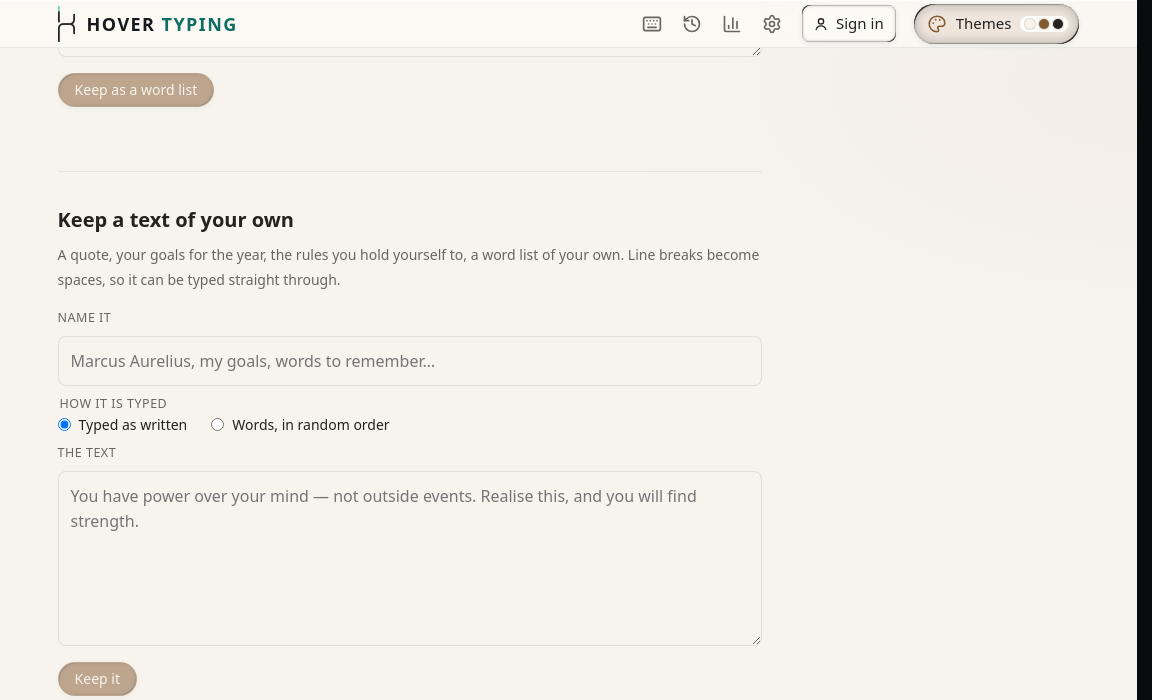
Test case: keeping a text of your own › says so when there is nothing in it to type, and keeps nothing
(page scrolled)
Type "Too short" into the field labelled "Name it".
click(410, 361); type("Too short")  # box [58,336,762,386]
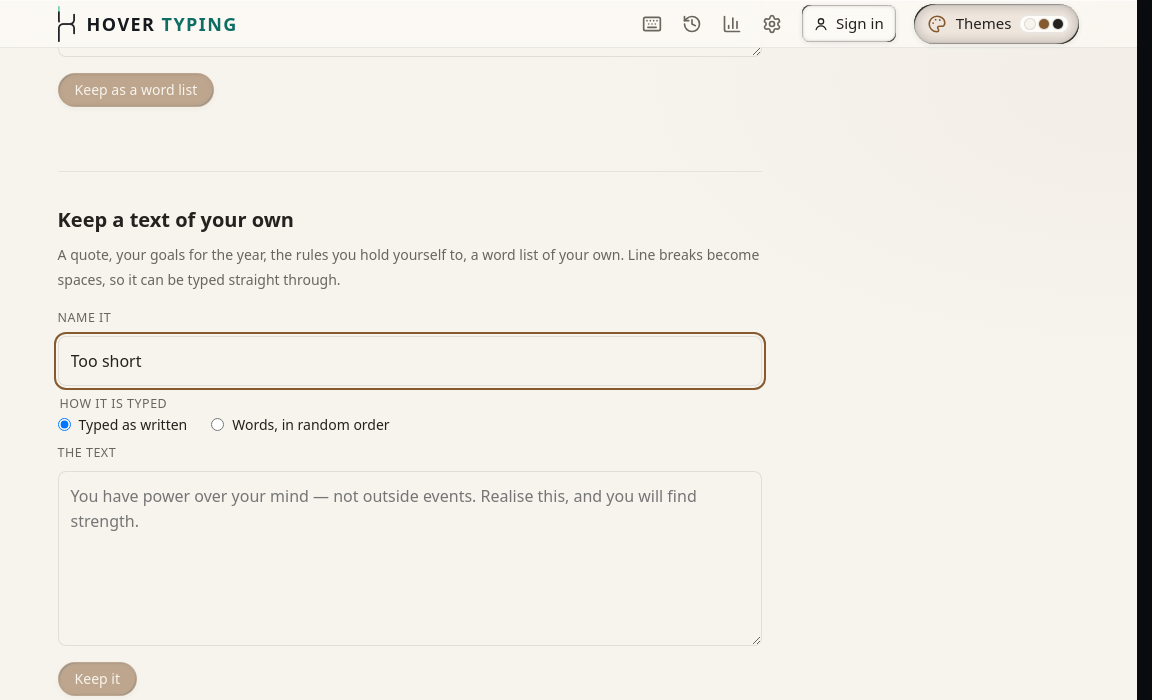
Type "hi" into the text box labelled "The text".
click(410, 558); type("hi")  # box [58,471,762,646]
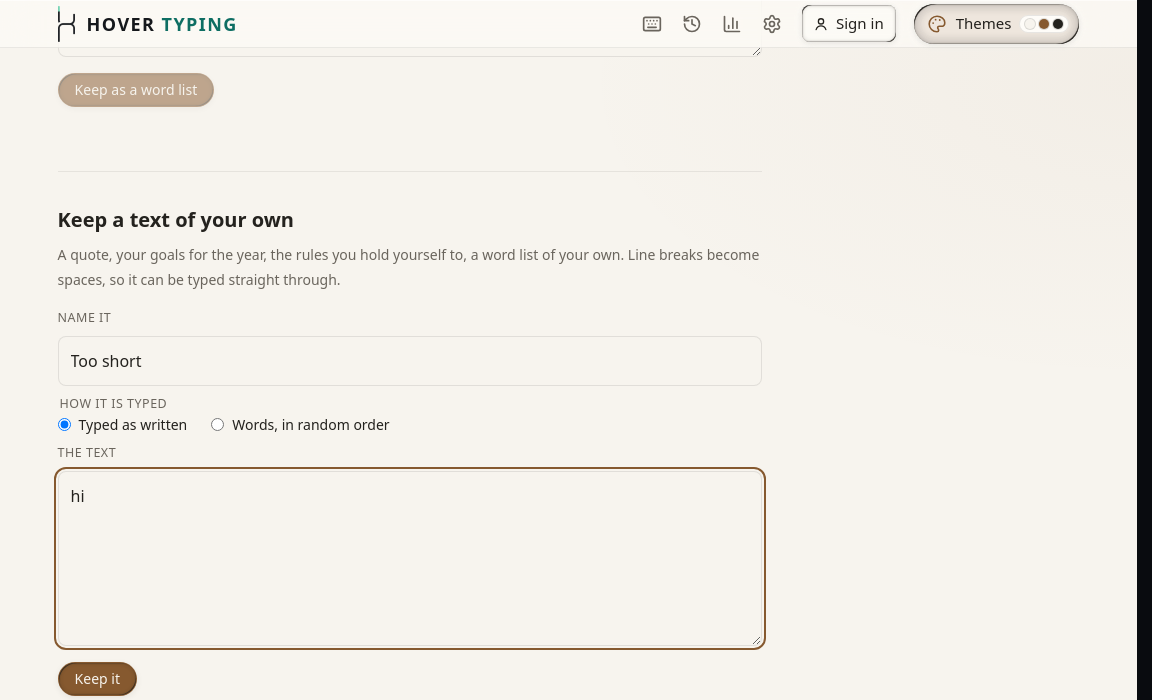
Click the button "Keep it".
click(97, 679)  # box [58,662,137,696]
(page scrolled)
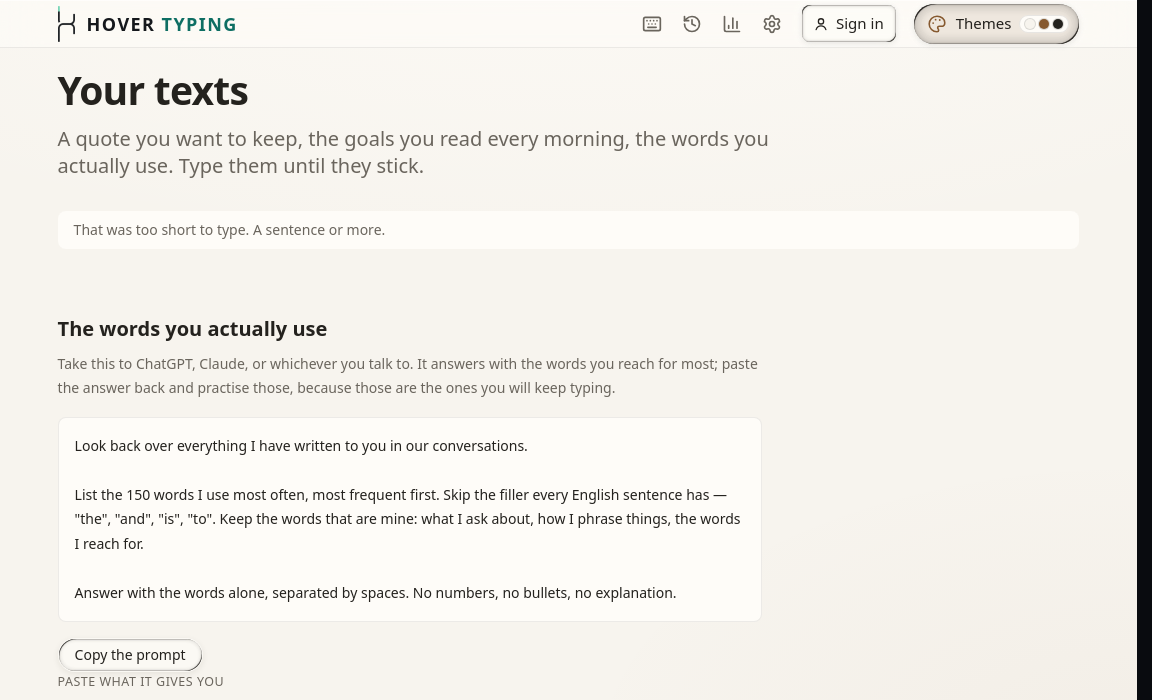
Expected: the message shows "too short to type", [74,220,385,239]
